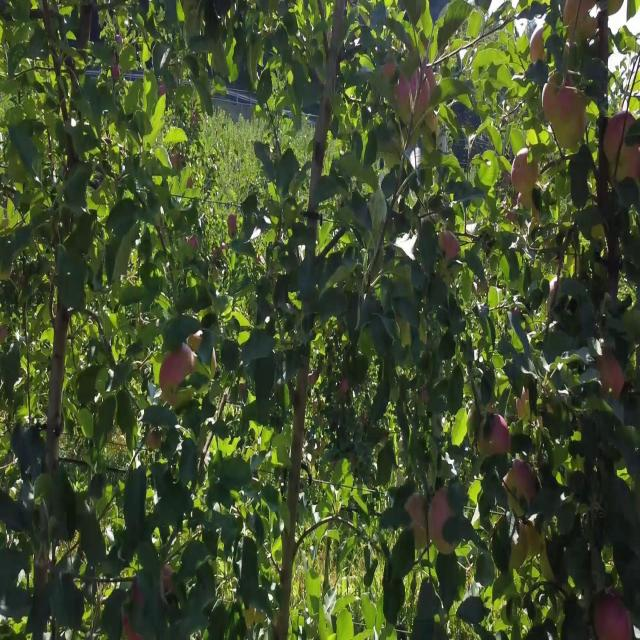apple: (552, 92, 588, 156), (556, 78, 588, 142), (396, 71, 436, 117), (428, 490, 453, 555), (596, 597, 632, 639), (480, 412, 512, 459), (620, 113, 640, 183), (504, 462, 537, 503), (560, 78, 587, 128), (596, 355, 625, 400), (512, 149, 540, 192), (476, 419, 504, 459), (488, 412, 512, 457), (604, 113, 623, 164), (544, 78, 563, 126), (160, 355, 185, 391), (580, 7, 600, 41), (624, 142, 640, 183), (440, 234, 460, 263), (532, 28, 548, 64), (124, 611, 142, 639), (564, 0, 580, 28), (180, 348, 196, 375), (408, 497, 426, 521), (516, 391, 530, 420), (188, 334, 204, 356), (520, 191, 535, 212), (244, 604, 256, 628), (148, 433, 162, 453), (132, 583, 144, 606), (384, 63, 397, 82), (228, 213, 239, 235), (308, 369, 320, 386), (340, 376, 350, 393), (420, 391, 429, 405), (112, 63, 120, 78), (0, 327, 7, 343), (240, 383, 247, 398), (188, 241, 200, 249)
